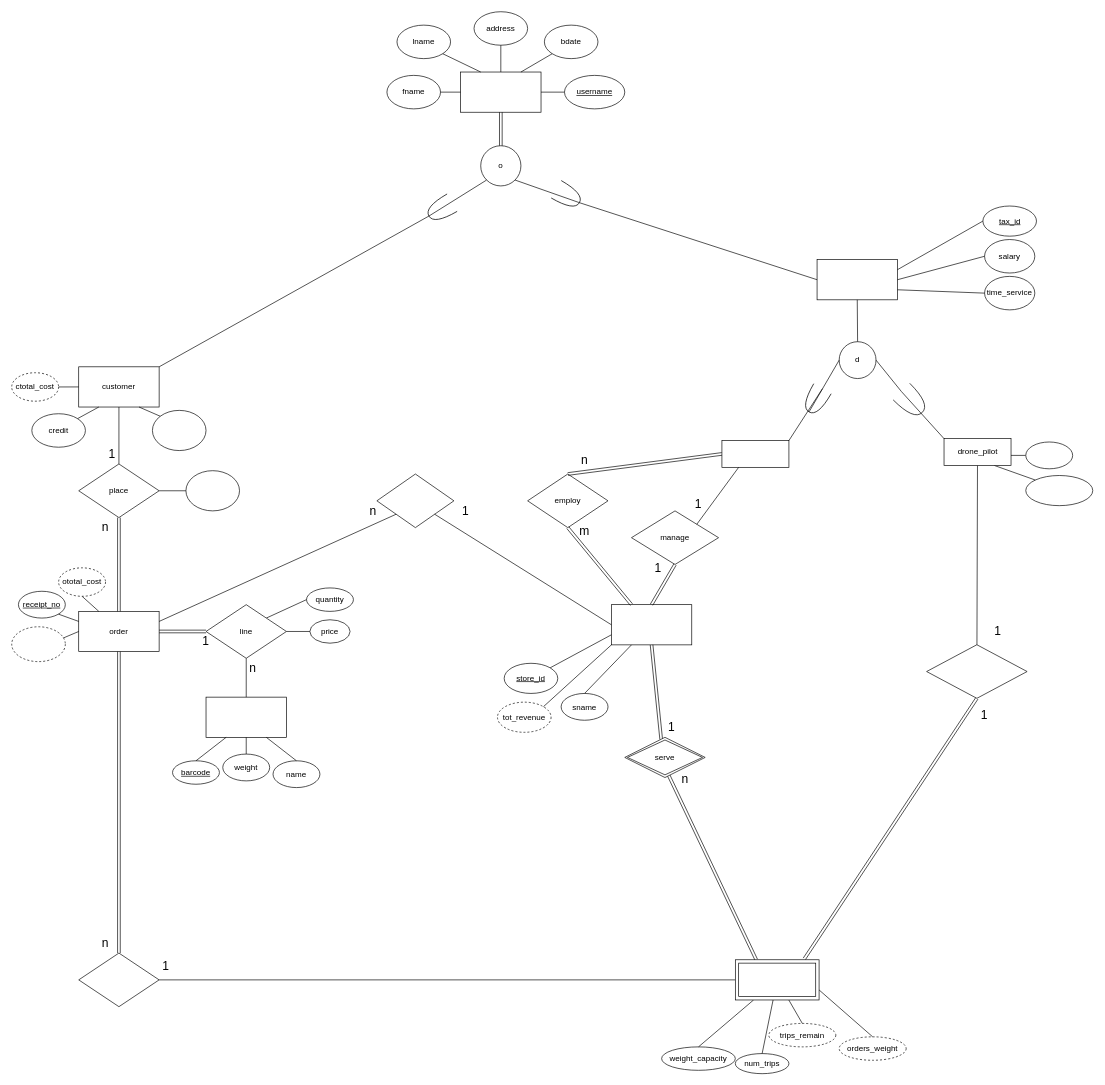
Image size: 1105x1085. Some labels were removed from this diagram. The centre of each missing label's shape, as x and y in pixels:
"control" goes at point 976,671.
"date" goes at point 212,490.
"deliver" goes at point 118,979.
"drone" goes at point 777,979.
"employee" goes at point 856,279.
"fulfill" goes at point 415,500.
"license_id" goes at point 1049,455.
"product" goes at point 245,716.
"rating" goes at point 179,430.
"store" goes at point 651,624.
"store_worker" goes at point 755,453.
"success_delivery" goes at point 1059,490.
"total_weight" goes at point 38,644.
"user" goes at point 500,91.
